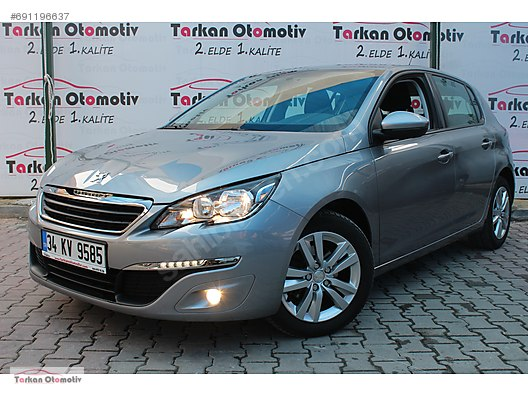peugeot: (29, 64, 515, 342)
